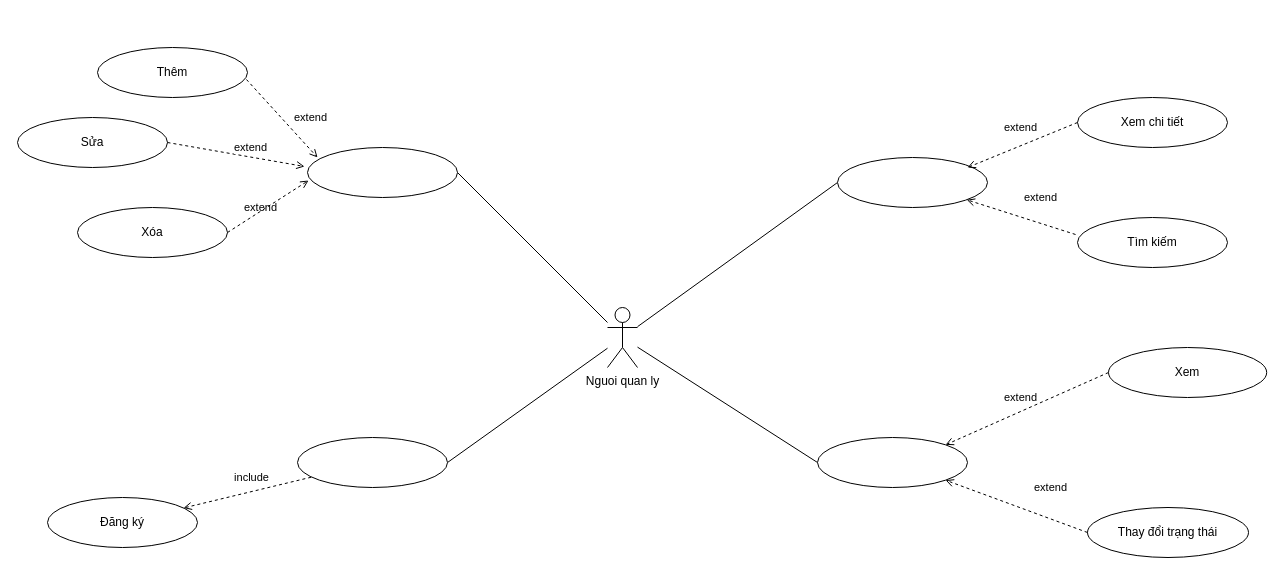
The diagram is 1285 pixels wide and 575 high, and some of its shapes have lost their labels. Each missing label, with the box of its shape:
Quản lý sản phẩm: (306, 146, 458, 198)
Quản lý đơn hàng: (816, 436, 968, 488)
Thống kê: (836, 156, 988, 208)
Đăng nhập: (296, 436, 448, 488)
